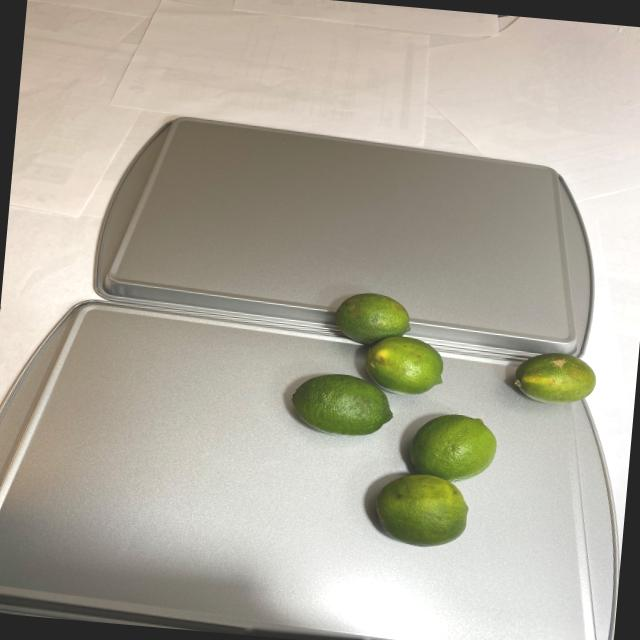lemon: (267, 282, 505, 546), (512, 351, 599, 408)
